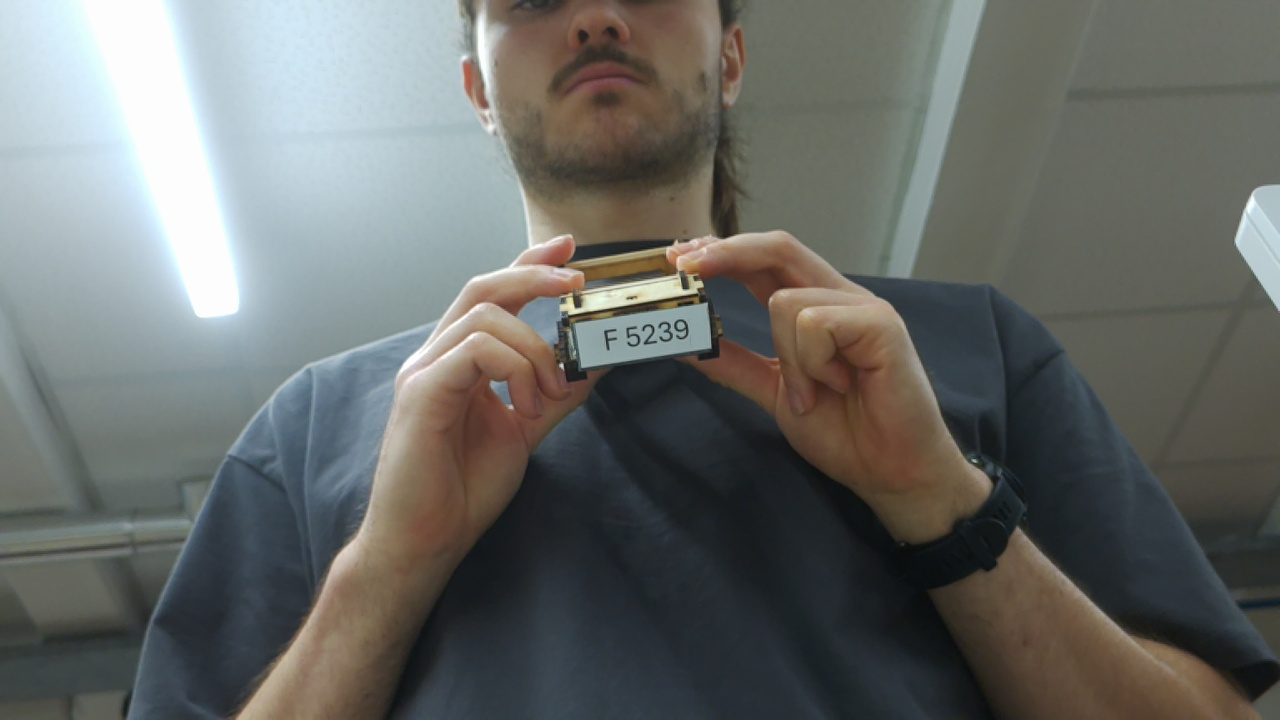license_plate: (557, 304, 722, 372)
